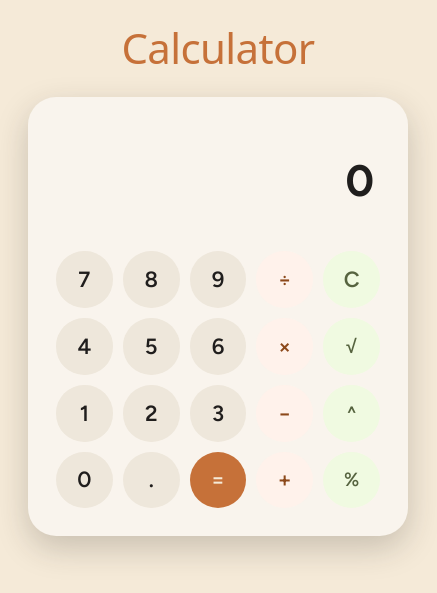
backend errors are surfaced (ADR-0005) › clears a surfaced error with C
Click the button "5".
click(151, 346)  # box left=123, top=318, right=180, bottom=375
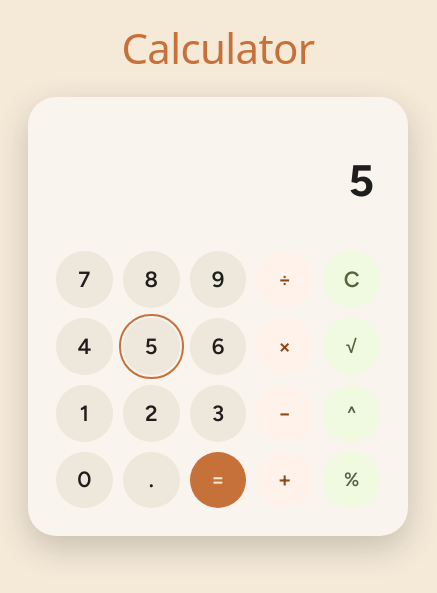
Click the button named "divide".
click(285, 280)  # box left=256, top=251, right=313, bottom=308
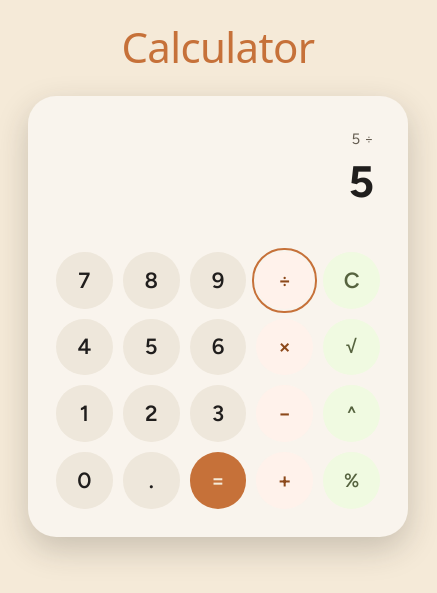
Click the button "0".
click(84, 480)  # box left=56, top=452, right=113, bottom=509
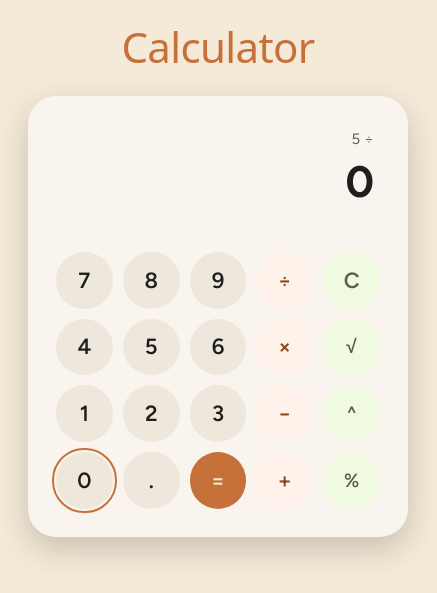
Click the button named "equals".
click(218, 480)  # box left=190, top=452, right=246, bottom=509
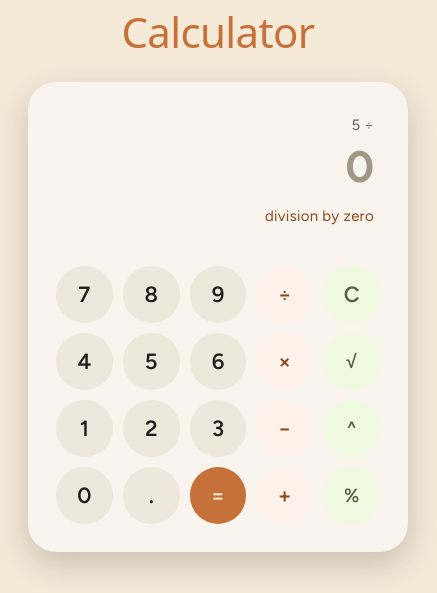
expect the message "division by zero" is shown: met, box left=265, top=207, right=374, bottom=225
Click the button named "clear".
click(352, 295)  # box left=323, top=266, right=380, bottom=323
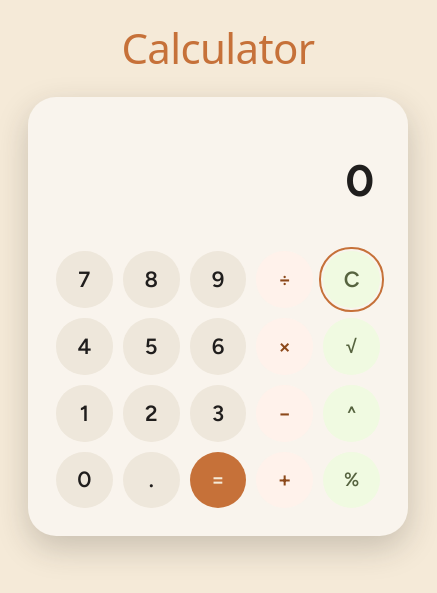
expect the message "division by zero" is gone: met
